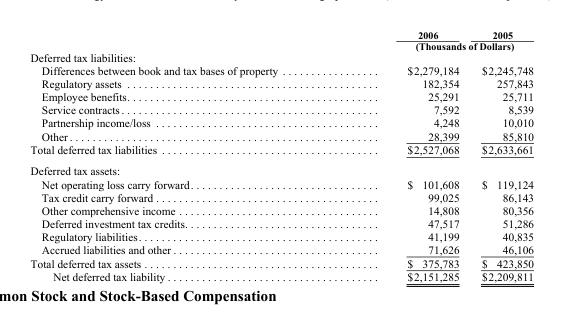table: (29, 29, 533, 282)
table column: (29, 29, 341, 282), (341, 29, 469, 282), (469, 29, 533, 282)
table column header: (29, 29, 533, 51)
table projected row header: (29, 160, 533, 177), (29, 51, 533, 63)
table row: (29, 142, 533, 160), (29, 160, 533, 177), (29, 89, 533, 103), (29, 255, 533, 269), (29, 63, 533, 76), (29, 76, 533, 89), (29, 103, 533, 116), (29, 116, 533, 129), (29, 129, 533, 142), (29, 177, 533, 190), (29, 190, 533, 203), (29, 203, 533, 216), (29, 216, 533, 229), (29, 229, 533, 242), (29, 242, 533, 255), (29, 269, 533, 282), (29, 51, 533, 63), (29, 29, 533, 40), (29, 40, 533, 51)
table spanning cell: (341, 40, 533, 51)
